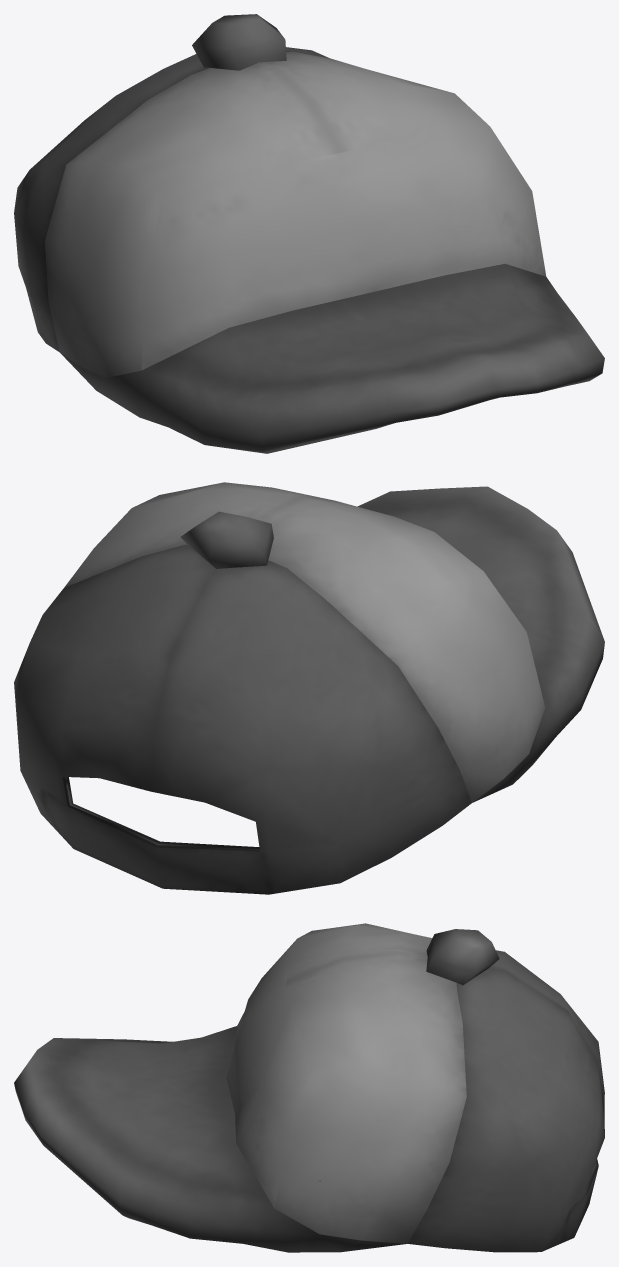
Rendered from gorra chinggona.fbx.
3 views of the same model, one above another, from view 1: azimuth 30°, elevation 25°; view 2: azimuth 150°, elevation 25°; view 3: azimuth 270°, elevation 25° (orthographic). The views are drawn at different scales.
Visible parts, largest first — view 1: gorra; view 2: gorra; view 3: gorra.
Part boxes in pixels (bbox=[...]): gorra: bbox=[14, 14, 604, 453]; gorra: bbox=[14, 482, 604, 894]; gorra: bbox=[14, 923, 604, 1252].
Bounding box in the file's own units: 104 × 74.48 × 146.
Materials: 1 (1 with a texture image).
